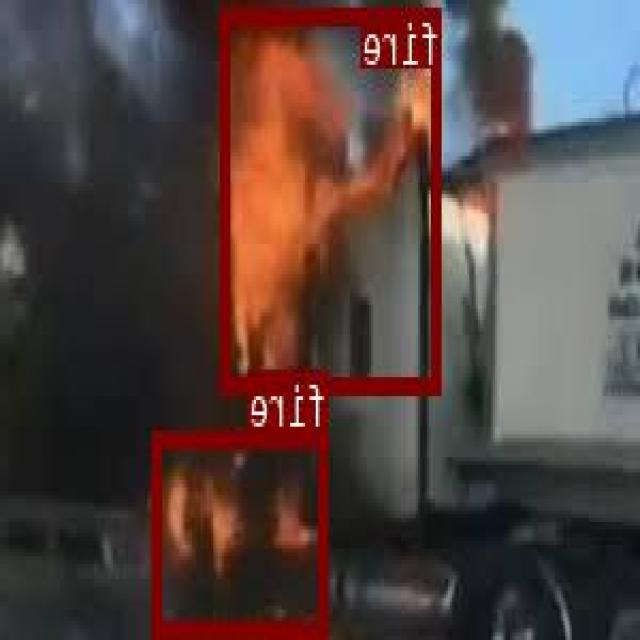fire: (222, 6, 442, 392), (156, 428, 330, 632)
